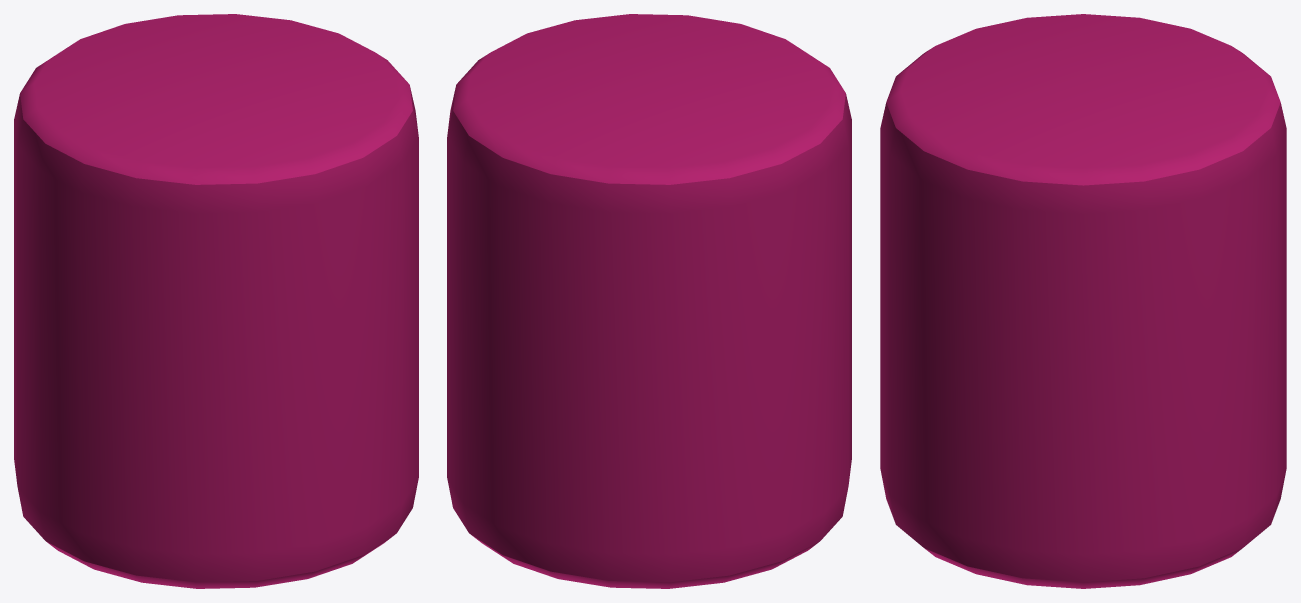
File: Mallow.fbx
The picture shows the model from 3 angles, left to right: view 1: azimuth 30°, elevation 25°; view 2: azimuth 150°, elevation 25°; view 3: azimuth 270°, elevation 25°; orthographic projection.
Visible parts, largest first — view 1: pCylinder6; view 2: pCylinder6; view 3: pCylinder6.
Boxes of the visible parts, x1,y1,x2,y2 form: pCylinder6: (14, 14, 418, 588); pCylinder6: (447, 14, 851, 588); pCylinder6: (880, 14, 1286, 588).
Size of the model in its own units: 1.7 by 1.94 by 1.7.
